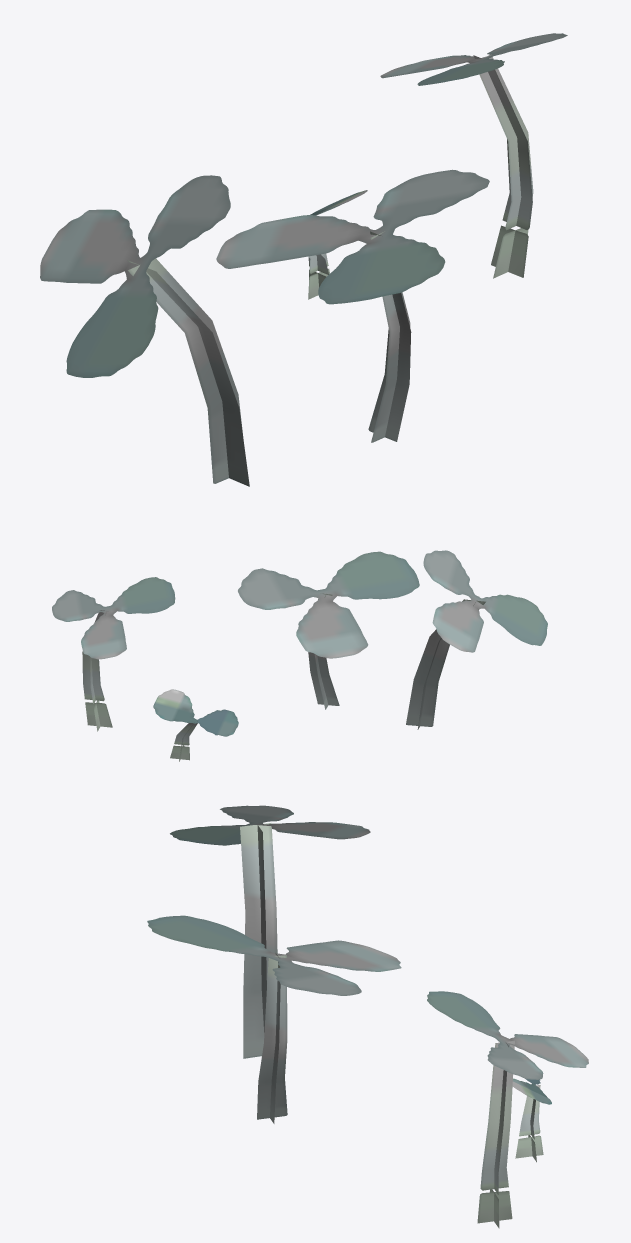
The model's file is pref_sm_beach_winter_techclover02a_lv3.fbx.
The picture shows the model from 3 angles, top to bottom: view 1: azimuth 30°, elevation 25°; view 2: azimuth 150°, elevation 25°; view 3: azimuth 270°, elevation 25°; orthographic projection. The views are drawn at different scales.
Parts seen in each view (by area): view 1: pref_sm_beach_winter_techclover02a_lv3; view 2: pref_sm_beach_winter_techclover02a_lv3; view 3: pref_sm_beach_winter_techclover02a_lv3.
Boxes of the visible parts, left/top/right/bottom form: pref_sm_beach_winter_techclover02a_lv3: left=40, top=33, right=567, bottom=486; pref_sm_beach_winter_techclover02a_lv3: left=52, top=550, right=547, bottom=761; pref_sm_beach_winter_techclover02a_lv3: left=147, top=805, right=588, bottom=1228.
Size of the model in its own units: 1.4 by 0.5966 by 1.14.
